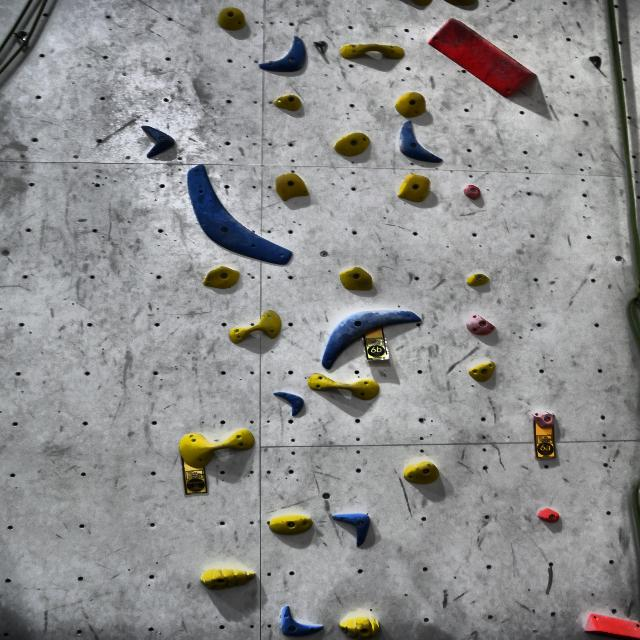Hold: (176, 169, 297, 265), (424, 18, 546, 94), (320, 306, 428, 372), (181, 421, 263, 470), (248, 34, 308, 80), (212, 313, 291, 345), (307, 370, 384, 402), (394, 121, 451, 163), (199, 558, 265, 592), (577, 607, 640, 640), (133, 118, 182, 160), (326, 508, 375, 550), (336, 37, 406, 63), (339, 614, 406, 640), (270, 606, 328, 636), (275, 168, 321, 201), (265, 513, 324, 537), (263, 388, 306, 420), (394, 172, 436, 203), (198, 265, 241, 295), (400, 457, 441, 488), (332, 132, 374, 157), (390, 90, 426, 119), (335, 268, 373, 294), (460, 313, 499, 337), (218, 8, 248, 34), (470, 358, 500, 384), (464, 270, 498, 292), (270, 95, 309, 114), (532, 504, 564, 525), (530, 410, 558, 430), (464, 182, 491, 196)
